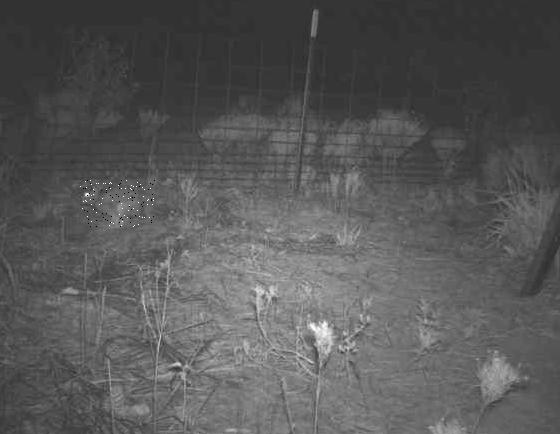Rabbit: (80, 180, 155, 227)
